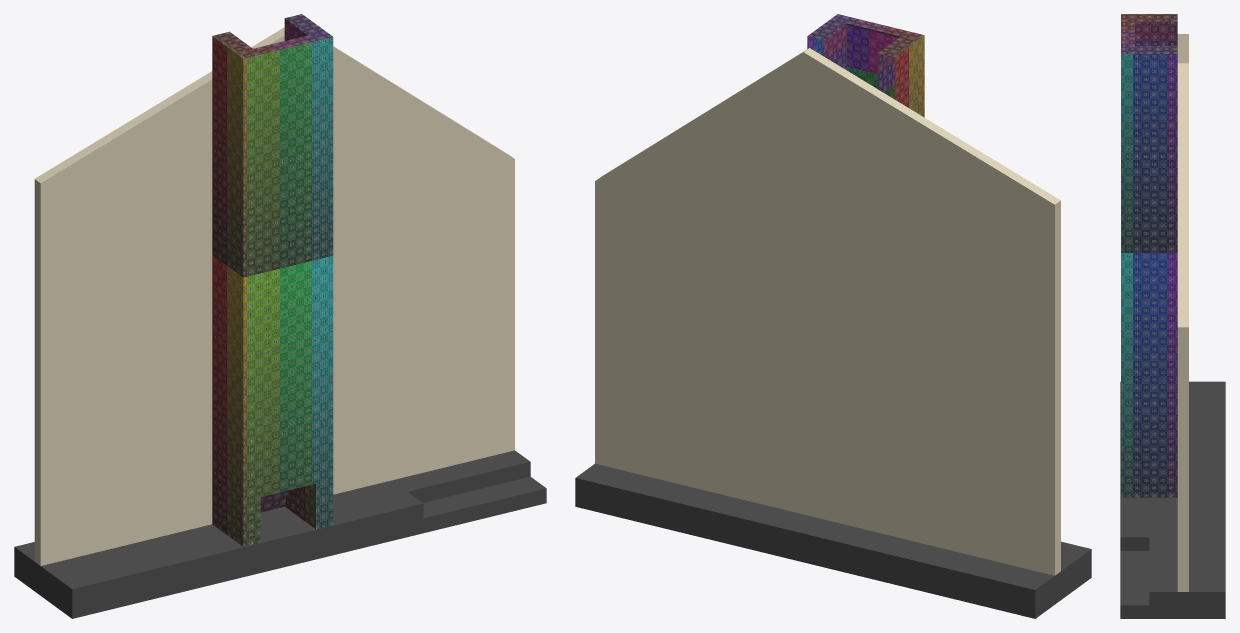
Rendered from Outside-Chimney.glb.
3 renders of one model, left to right at view 1: azimuth 30°, elevation 25°; view 2: azimuth 150°, elevation 25°; view 3: azimuth 270°, elevation 25°, orthographic. The views are drawn at different scales.
Parts seen in each view (by area): view 1: Outside_Chimney, main_change; view 2: Outside_Chimney, main_change; view 3: main_change, Outside_Chimney.
Part boxes in pixels (x1=…): Outside_Chimney: x1=14, y1=27, x2=546, y2=618; main_change: x1=212, y1=14, x2=333, y2=546; Outside_Chimney: x1=575, y1=48, x2=1091, y2=618; main_change: x1=807, y1=14, x2=924, y2=117; main_change: x1=1121, y1=14, x2=1177, y2=497; Outside_Chimney: x1=1120, y1=34, x2=1225, y2=618.
Bounding box in the file's own units: 10.55 × 11.02 × 2.23.
3 materials, 1 textured.
